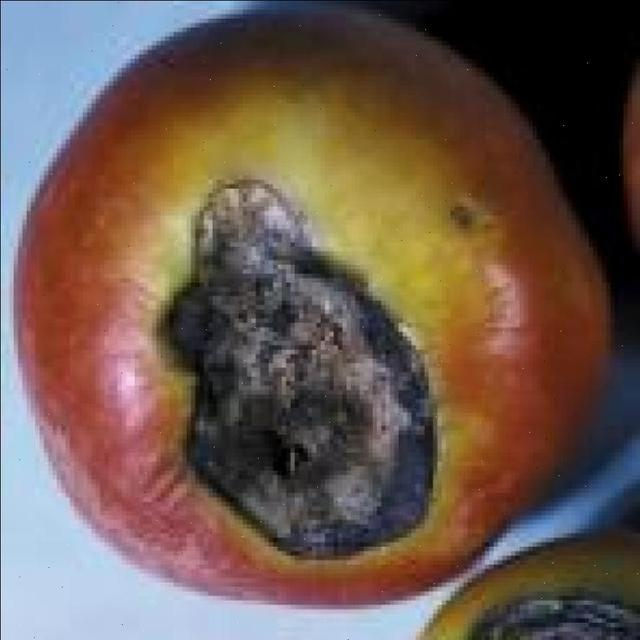Blossom End Rot Fruit: (116, 33, 366, 410)
